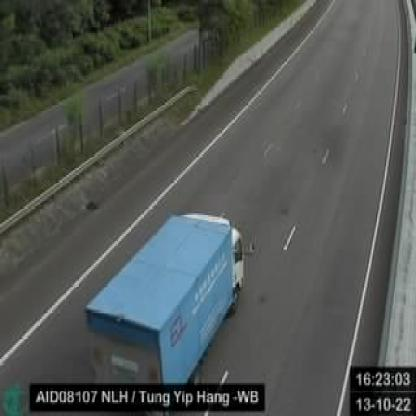Truck: (86, 209, 245, 396)
